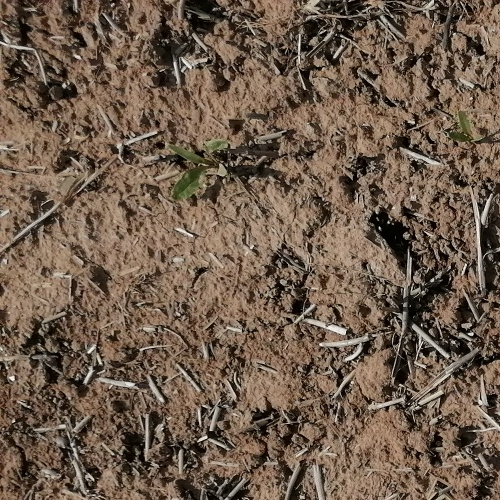beet: (164, 140, 229, 202), (445, 106, 478, 146)
